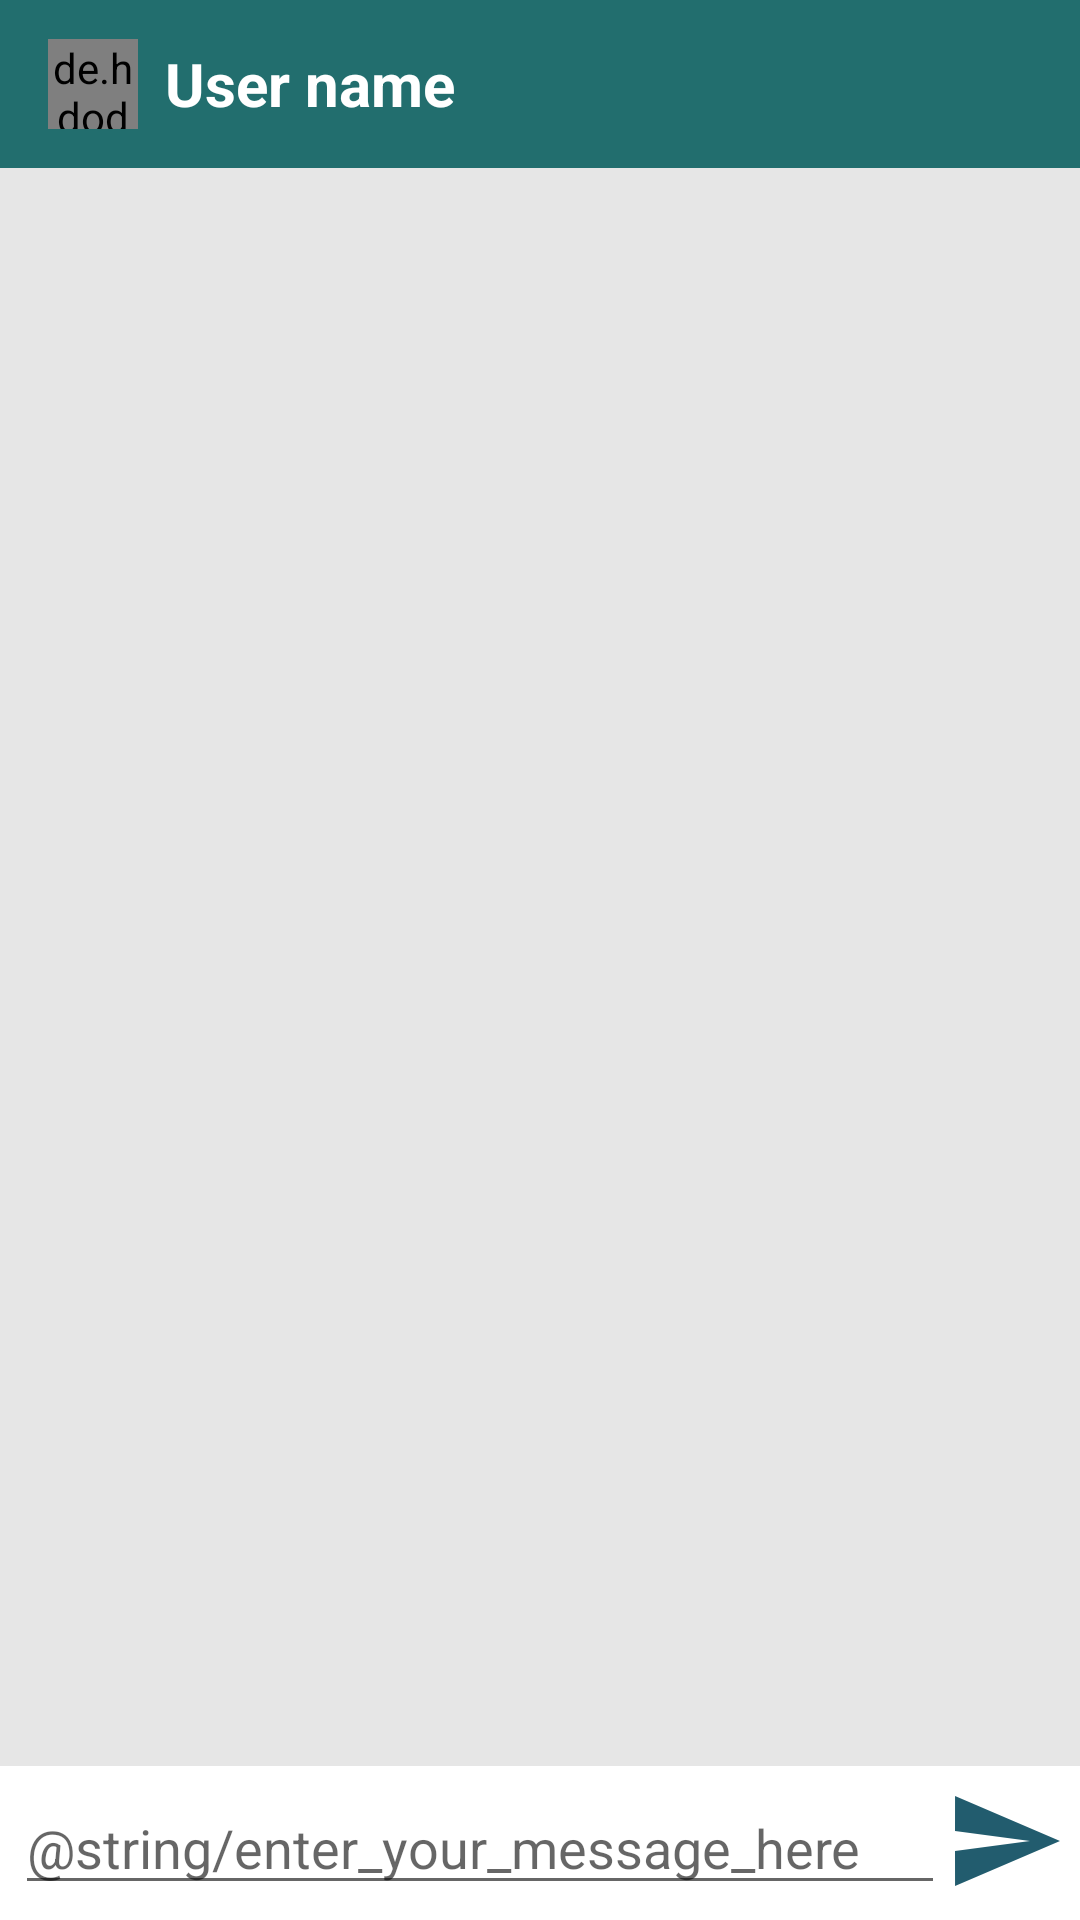

Icon click points for this 1080 x 1920 phone screenshot, format (x,y):
send: (1007,1841)
